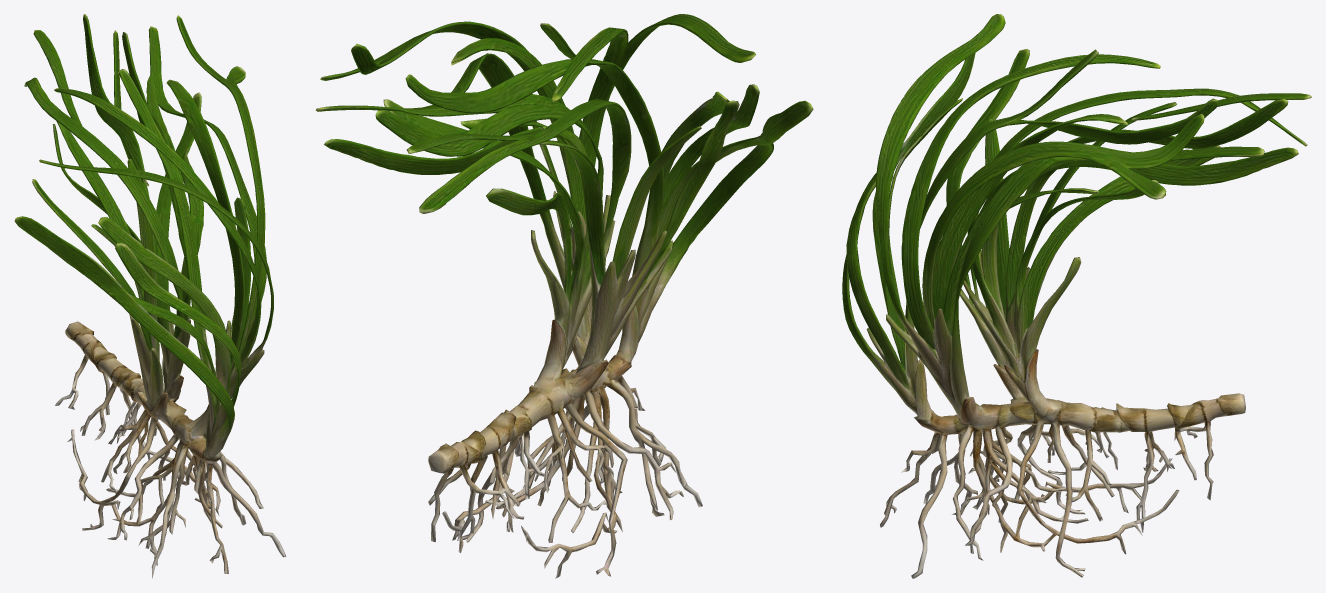
The model's file is turtlegrass.glb.
The picture shows the model from 3 angles, left to right: view 1: azimuth 30°, elevation 25°; view 2: azimuth 150°, elevation 25°; view 3: azimuth 270°, elevation 25°; orthographic projection. The views are drawn at different scales.
Parts seen in each view (by area): view 1: tripo_node_1f9d9aa2-dd27-479b-be70-553fa6a6eaa0; view 2: tripo_node_1f9d9aa2-dd27-479b-be70-553fa6a6eaa0; view 3: tripo_node_1f9d9aa2-dd27-479b-be70-553fa6a6eaa0.
Part boxes in pixels (left/top/right/bottom): tripo_node_1f9d9aa2-dd27-479b-be70-553fa6a6eaa0: left=14, top=14, right=286, bottom=578; tripo_node_1f9d9aa2-dd27-479b-be70-553fa6a6eaa0: left=315, top=14, right=813, bottom=578; tripo_node_1f9d9aa2-dd27-479b-be70-553fa6a6eaa0: left=842, top=14, right=1311, bottom=578.
Size of the model in its own units: 0.7412 by 1 by 0.8752.
Materials: 1 (1 with a texture image).
